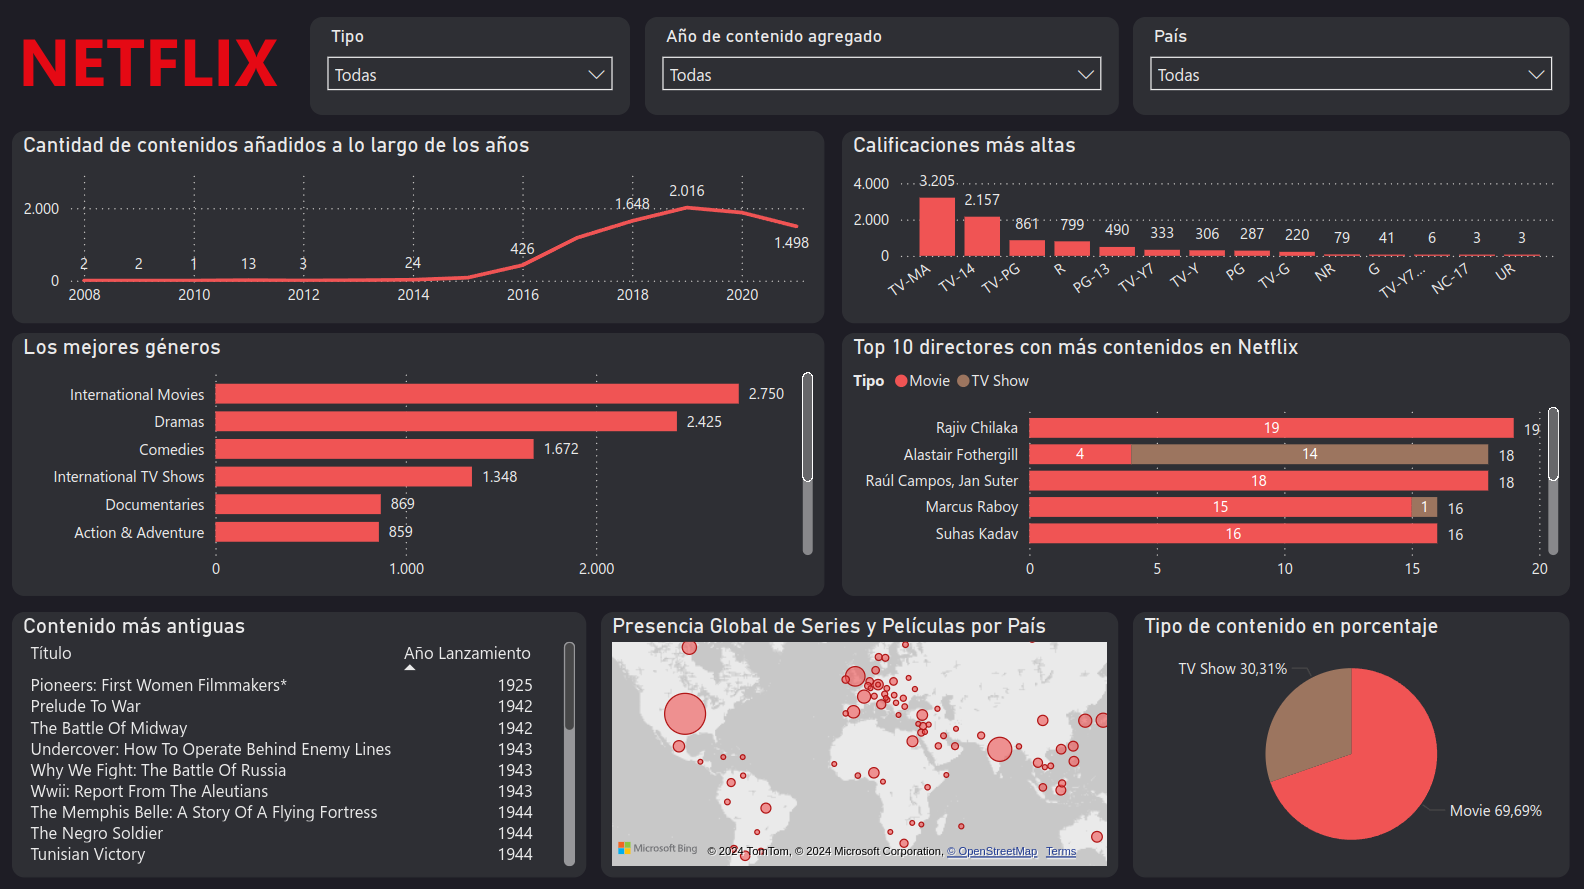

The page's visual inventory and layout, read from the dashboard file:
{"tool":"powerbi","page":{"name":"Página 1","canvas":[1280,720],"ordinal":0},"visuals":[{"type":"barChart","title":"Top 10 directores con más contenidos en Netflix","fields":{"Category":["Director.Director"],"Series":["Director.Tipo"],"Y":["Medidas.ConteoTipo"]},"box":[680.9,270.4,586.5,212],"z":0},{"type":"barChart","title":"Los mejores géneros","fields":{"Y":["Medidas.ConteoGénero"],"Category":["ListadoIndividual.Listado"]},"box":[11.7,270.4,654.6,212],"z":1000},{"type":"columnChart","title":"Calificaciones más altas","fields":{"Category":["netflix_datos_limpios.Valoración"],"Y":["Medidas.ConteoValoración"]},"box":[680.9,107,586.5,154.7],"z":2000},{"type":"lineChart","title":"Cantidad de contenidos añadidos a lo largo de los años","fields":{"Category":["netflix_datos_limpios.Fecha Agregada.Variación.Jerarquía de fechas.Año"],"Y":["Medidas.ConteoFechaAgregada"]},"box":[11.7,107,654.6,154.7],"z":3000},{"type":"slicer","fields":{"Values":["netflix_datos_limpios.Fecha Agregada.Variación.Jerarquía de fechas.Año"]},"box":[521.3,15.6,382.2,78.8],"z":4000},{"type":"slicer","fields":{"Values":["netflix_datos_limpios.País"]},"box":[915.3,15.6,352.1,78.8],"z":5000},{"type":"pieChart","title":"Tipo de contenido en porcentaje","fields":{"Category":["netflix_datos_limpios.Tipo"],"Y":["Medidas.ConteoTipoGeneral"]},"box":[915.3,495.1,352.1,214],"z":6000},{"type":"map","title":"Presencia Global de Series y Películas por País","fields":{"Category":["Netflix.País"],"Size":["Medidas.ConteoTipoGeneral"]},"box":[486.3,495.1,417.3,214],"z":7000},{"type":"tableEx","title":"Contenido más antiguas","fields":{"Values":["Netflix.Título","Netflix.Año Lanzamiento"]},"box":[11.7,495.1,463,214],"z":8000},{"type":"textbox","box":[11.7,7.8,231.5,86.6],"z":9000},{"type":"slicer","fields":{"Values":["Netflix.Tipo"]},"box":[251.9,15.6,257.8,78.8],"z":10000}]}

Visuals, with their boxes in screenshot pixels (x1, y1, x2, y2), scaled from the page's 1280x720 canvas onto the 1584x889 screenshot:
"Top 10 directores con más contenidos en Netflix" barChart: bbox=(843, 334, 1568, 596)
"Los mejores géneros" barChart: bbox=(14, 334, 825, 596)
"Calificaciones más altas" columnChart: bbox=(843, 132, 1568, 323)
"Cantidad de contenidos añadidos a lo largo de los años" lineChart: bbox=(14, 132, 825, 323)
slicer - netflix_datos_limpios.Fecha Agregada.Variación.Jerarquía de fechas.Año: bbox=(645, 19, 1118, 117)
slicer - netflix_datos_limpios.País: bbox=(1133, 19, 1568, 117)
"Tipo de contenido en porcentaje" pieChart: bbox=(1133, 611, 1568, 876)
"Presencia Global de Series y Películas por País" map: bbox=(602, 611, 1118, 876)
"Contenido más antiguas" tableEx: bbox=(14, 611, 587, 876)
textbox: bbox=(14, 10, 301, 117)
slicer - Netflix.Tipo: bbox=(312, 19, 631, 117)
